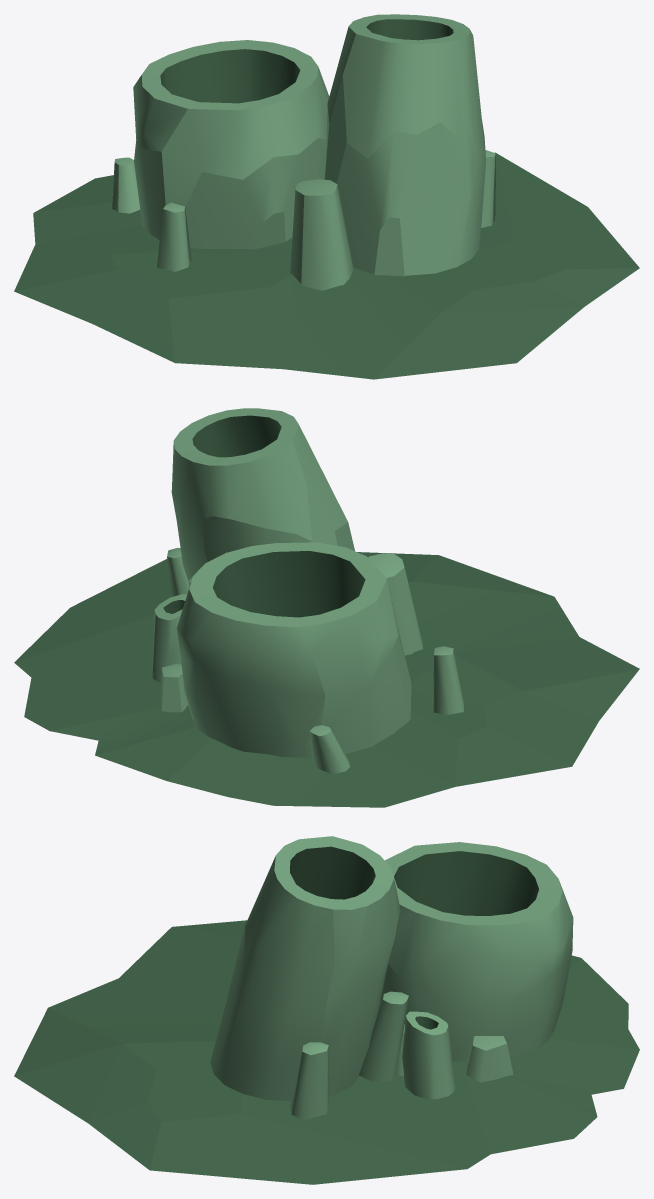
The model's file is coral_tube_set_E_light.fbx.
3 views of the same model, one above another, from view 1: azimuth 30°, elevation 25°; view 2: azimuth 150°, elevation 25°; view 3: azimuth 270°, elevation 25° (orthographic). The views are drawn at different scales.
Parts seen in each view (by area): view 1: coral_tube_set_F_light_base, coral_tube_set_F_light_B, coral_tube_set_F_light_A, coral_tube_set_F_light_small_A, coral_tube_set_F_light_small_F, coral_tube_set_F_light_small_G, coral_tube_set_F_light_small_C; view 2: coral_tube_set_F_light_base, coral_tube_set_F_light_A, coral_tube_set_F_light_B, coral_tube_set_F_light_small_A, coral_tube_set_F_light_C, coral_tube_set_F_light_small_F, coral_tube_set_F_light_small_G, coral_tube_set_F_light_small_E, coral_tube_set_F_light_small_C; view 3: coral_tube_set_F_light_base, coral_tube_set_F_light_B, coral_tube_set_F_light_A, coral_tube_set_F_light_C, coral_tube_set_F_light_small_D, coral_tube_set_F_light_small_C, coral_tube_set_F_light_small_E.
Boxes of the visible parts, bbox=[...] form: coral_tube_set_F_light_base: bbox=[14, 152, 639, 379]; coral_tube_set_F_light_B: bbox=[324, 14, 485, 276]; coral_tube_set_F_light_A: bbox=[133, 40, 329, 249]; coral_tube_set_F_light_small_A: bbox=[290, 179, 353, 290]; coral_tube_set_F_light_small_F: bbox=[157, 202, 191, 271]; coral_tube_set_F_light_small_G: bbox=[112, 157, 140, 213]; coral_tube_set_F_light_small_C: bbox=[481, 150, 495, 227]; coral_tube_set_F_light_base: bbox=[14, 552, 639, 807]; coral_tube_set_F_light_A: bbox=[177, 542, 411, 757]; coral_tube_set_F_light_B: bbox=[171, 408, 354, 580]; coral_tube_set_F_light_small_A: bbox=[368, 553, 422, 655]; coral_tube_set_F_light_C: bbox=[152, 594, 186, 682]; coral_tube_set_F_light_small_F: bbox=[432, 646, 464, 714]; coral_tube_set_F_light_small_G: bbox=[309, 725, 350, 774]; coral_tube_set_F_light_small_E: bbox=[161, 664, 188, 712]; coral_tube_set_F_light_small_C: bbox=[167, 548, 189, 596]; coral_tube_set_F_light_base: bbox=[14, 920, 639, 1184]; coral_tube_set_F_light_B: bbox=[210, 836, 400, 1101]; coral_tube_set_F_light_A: bbox=[380, 842, 573, 1061]; coral_tube_set_F_light_C: bbox=[402, 1011, 455, 1099]; coral_tube_set_F_light_small_D: bbox=[359, 991, 408, 1081]; coral_tube_set_F_light_small_C: bbox=[290, 1042, 328, 1120]; coral_tube_set_F_light_small_E: bbox=[465, 1036, 513, 1082].
Size of the model in its own units: 79.71 by 35.51 by 77.36.
